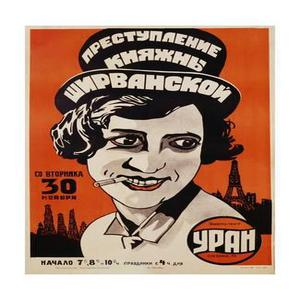cigarette: (91, 173, 131, 188)
